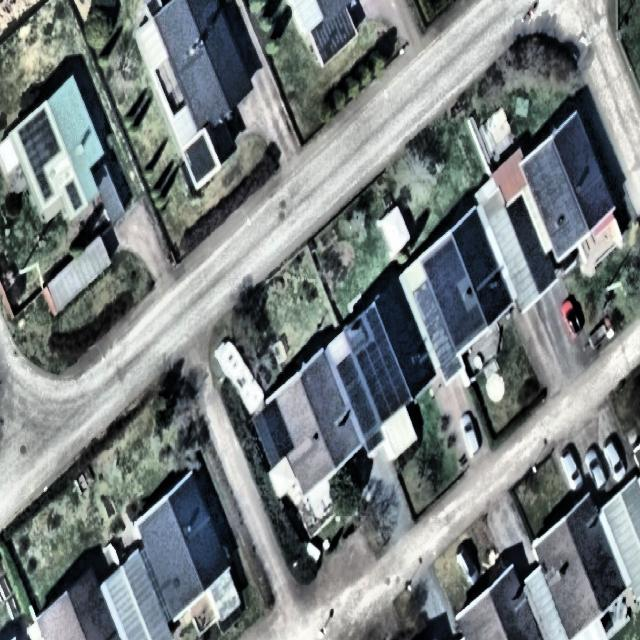roof_pv: (16, 103, 64, 168), (420, 235, 468, 288), (438, 305, 486, 352), (362, 379, 410, 423), (356, 343, 403, 378), (365, 303, 389, 344), (63, 174, 85, 213), (33, 170, 53, 207), (434, 289, 466, 306)
